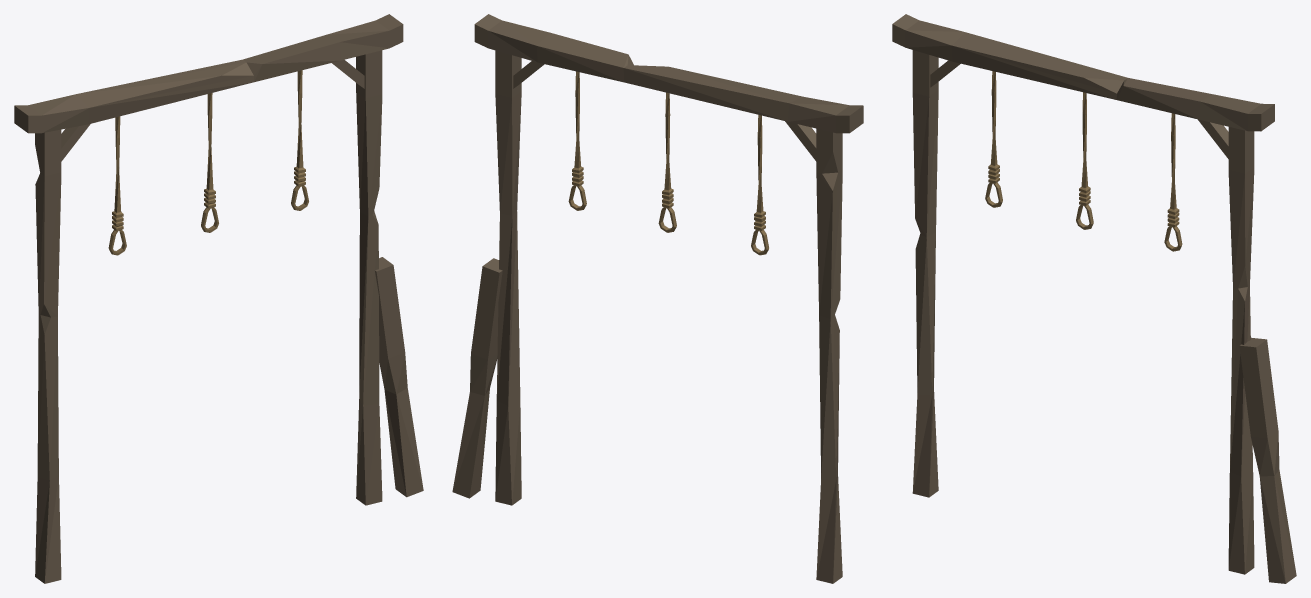
File: SM_Prop_Gallows_02.glb
3 renders of one model, left to right at view 1: azimuth 30°, elevation 25°; view 2: azimuth 150°, elevation 25°; view 3: azimuth 330°, elevation 25°, orthographic.
Visible parts, largest first — view 1: SM_Prop_Gallows_02_part00; view 2: SM_Prop_Gallows_02_part00; view 3: SM_Prop_Gallows_02_part00.
Part boxes in pixels (x1,y1,x2,y2): SM_Prop_Gallows_02_part00: [14, 14, 423, 583]; SM_Prop_Gallows_02_part00: [452, 14, 863, 583]; SM_Prop_Gallows_02_part00: [892, 14, 1296, 583].
Size of the model in its own units: 4.77 by 5.45 by 0.3154.
Materials: 1 (1 with a texture image).
